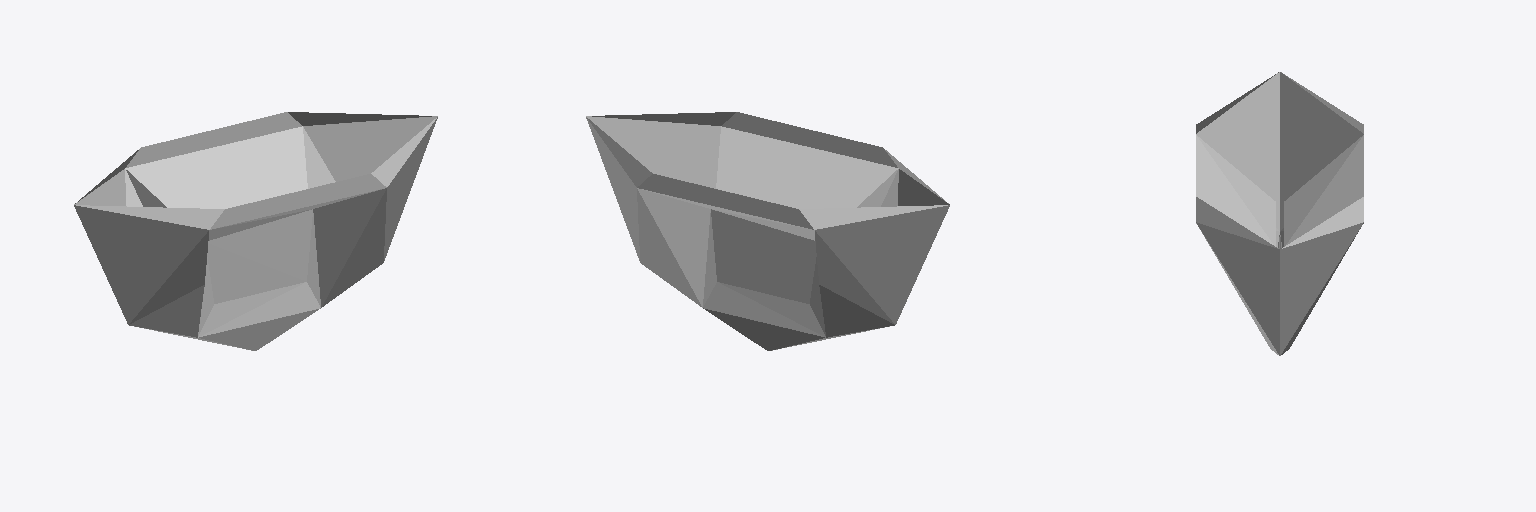
The model's file is silicon_leg_gem2.obj.
The picture shows the model from 3 angles: view 1: azimuth 30°, elevation 25°; view 2: azimuth 150°, elevation 25°; view 3: azimuth 270°, elevation 25°; orthographic projection.
Visible parts, largest first — view 1: SiliconLegGem2; view 2: SiliconLegGem2; view 3: SiliconLegGem2.
Boxes of the visible parts, <box> form: SiliconLegGem2: <box>74,112,437,350</box>; SiliconLegGem2: <box>586,112,949,350</box>; SiliconLegGem2: <box>1196,72,1363,355</box>.
Bounding box in the file's own units: 2 × 1 × 0.8.